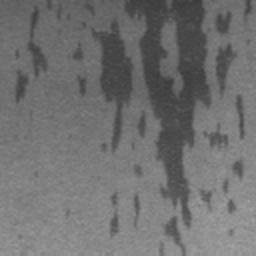Red iron sheet: (72, 0, 252, 256), (14, 0, 61, 104), (109, 191, 141, 236), (133, 165, 142, 177)
